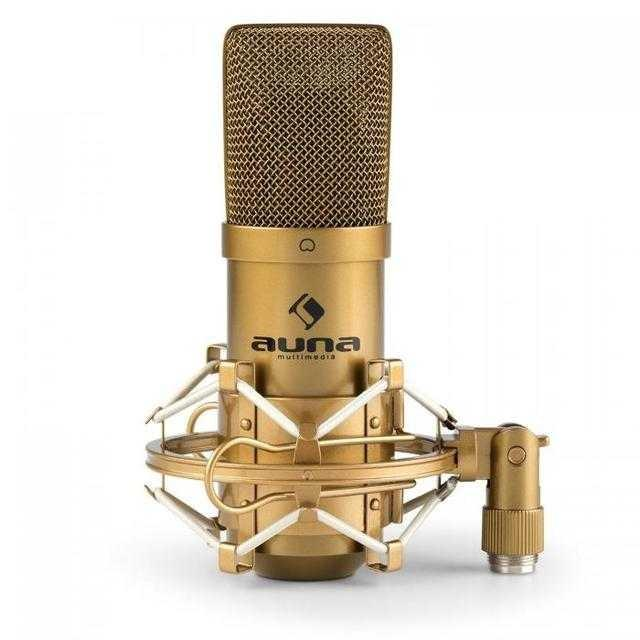microphone: (223, 29, 396, 580)
